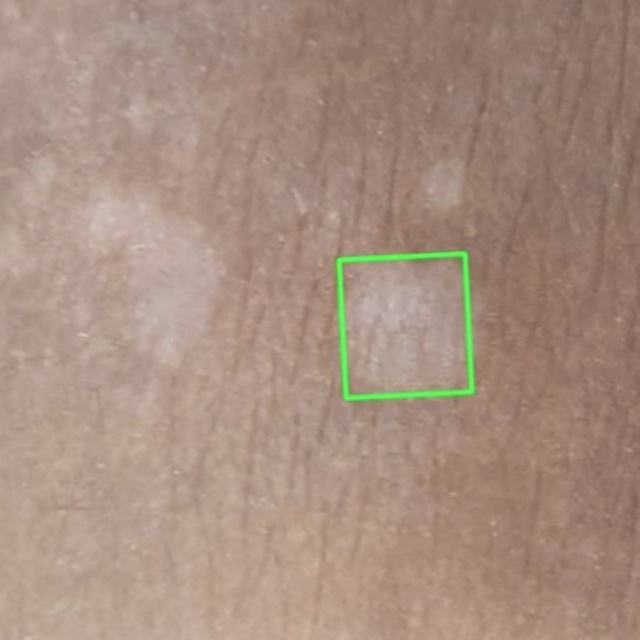Eczema: (339, 253, 471, 398)
